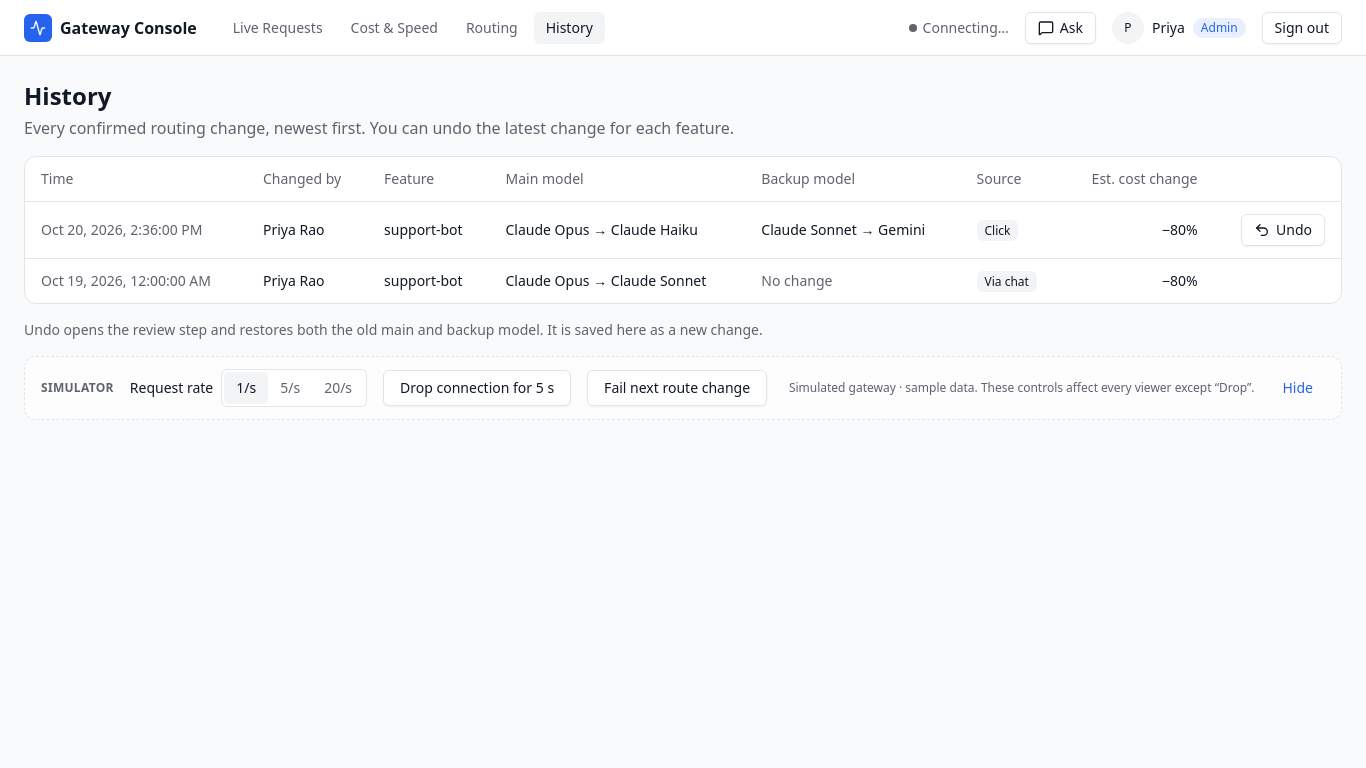
Test: Undo (FR-23, Flow G) › opens the review with source undo, confirms, restores the route and adds a new entry
Click the button with aria-label "Undo latest change" at (1283, 230), box [1241,214,1325,246]
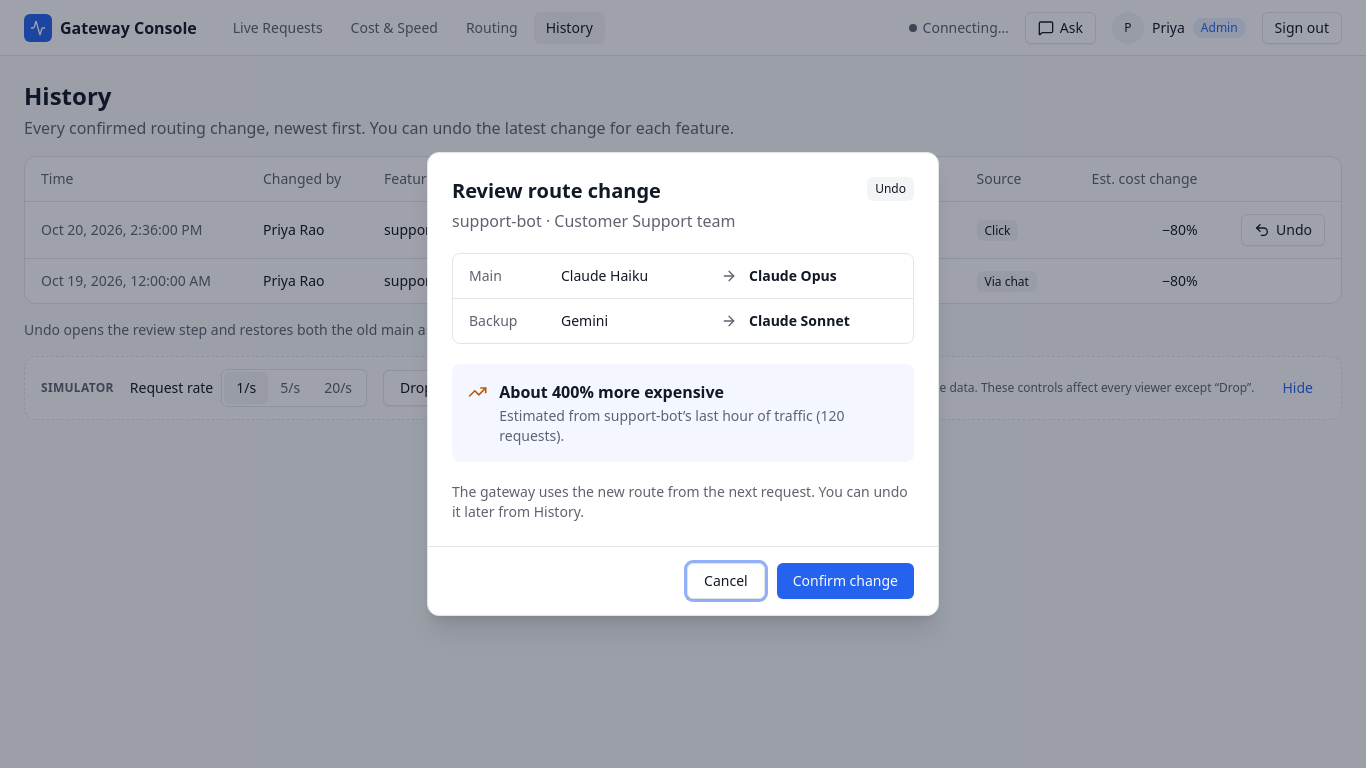
Now the text "Undo" is shown, box [867,177,914,201]
Click the button "Confirm change" at (845, 581), box [777,563,914,599]
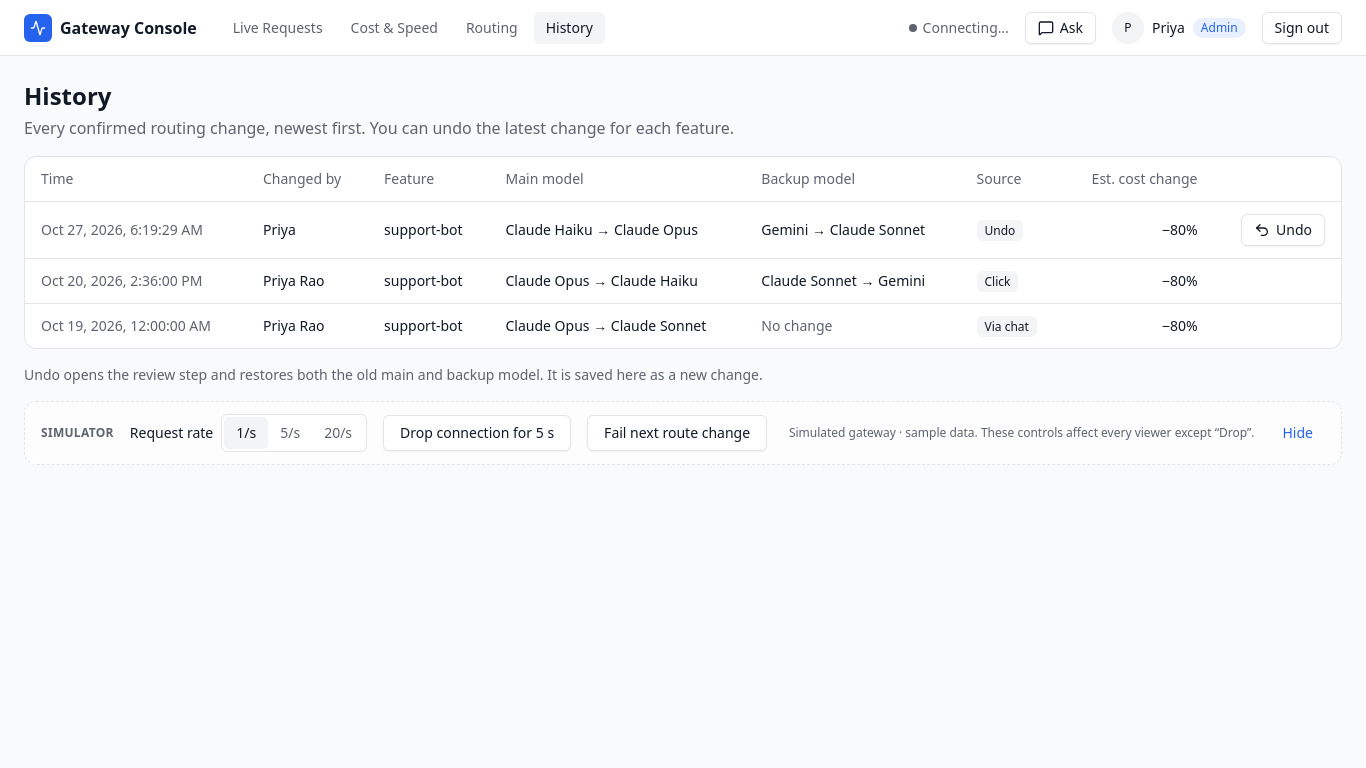
Now the text "Undo" is shown, box [976,220,1023,241]
Now the dialog is gone
